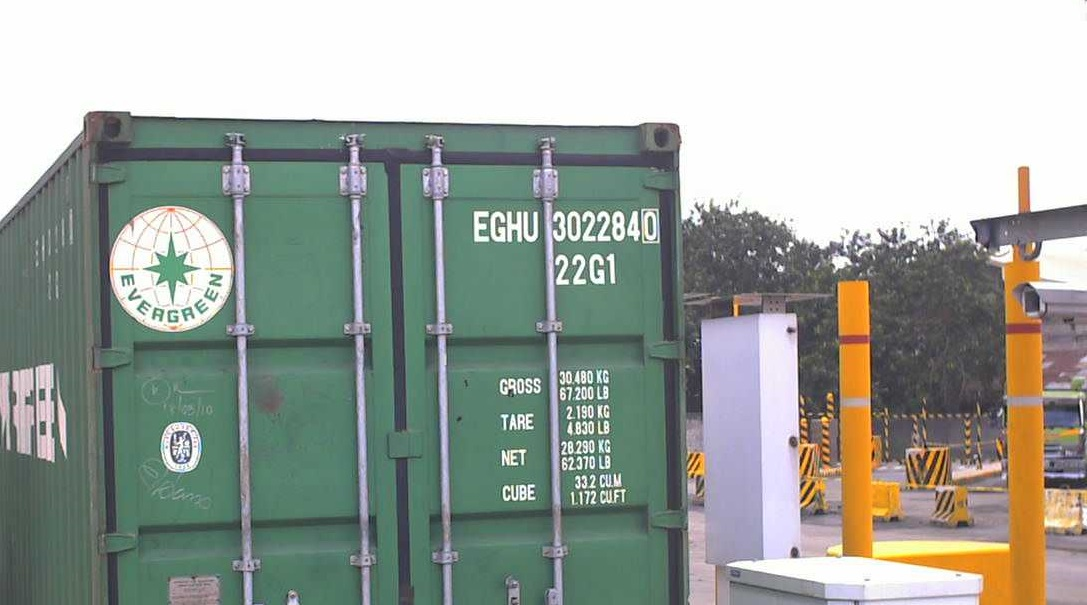container_door: (84, 116, 684, 604)
